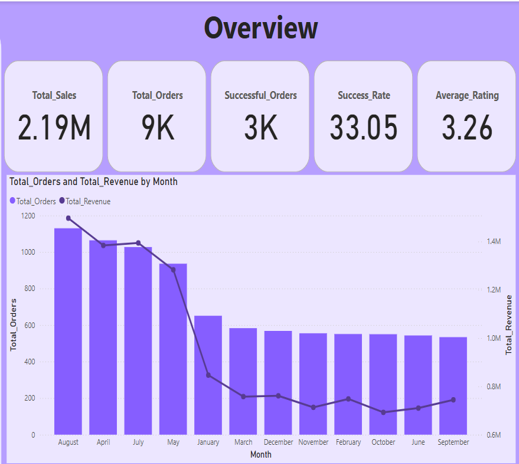

Layout of this report page (visuals, bound fields, positions):
{"tool":"powerbi","page":{"name":"Overview","canvas":[1280,720],"ordinal":0},"visuals":[{"type":"shape","box":[9.6,0,306,720.4],"z":0},{"type":"textbox","box":[315.6,0,964.7,76.8],"z":1000},{"type":"textbox","box":[26.1,38.4,275.8,96.1],"z":2000},{"type":"pageNavigator","box":[62.7,150.9,200.9,561.8],"z":3000},{"type":"cardVisual","fields":{"Data":["cleaned_new_retail_data.Total_Sales","cleaned_new_retail_data.Total_Orders","cleaned_new_retail_data.Successful_Orders","cleaned_new_retail_data.Success_Rate","cleaned_new_retail_data.Average_Rating"]},"box":[316,86,964,182],"z":4000},{"type":"lineStackedColumnComboChart","fields":{"Y":["cleaned_new_retail_data.Total_Orders"],"Category":["cleaned_new_retail_data.Month"],"Y2":["cleaned_new_retail_data.Total_Revenue"]},"box":[325.6,267.8,946.7,444.4],"z":5000}]}

Visuals, with their boxes on the page's 1280x720 design canvas (x1, y1, x2, y2). These are canvas units, not pixel positions in the 519x464 screenshot, which may show the page scaled, cropped or inside an application window:
shape: <box>10,0,316,720</box>
textbox: <box>316,0,1280,77</box>
textbox: <box>26,38,302,134</box>
pageNavigator: <box>63,151,264,713</box>
cardVisual - cleaned_new_retail_data.Total_Sales x cleaned_new_retail_data.Total_Orders: <box>316,86,1280,268</box>
lineStackedColumnComboChart - cleaned_new_retail_data.Total_Orders x cleaned_new_retail_data.Month: <box>326,268,1272,712</box>
